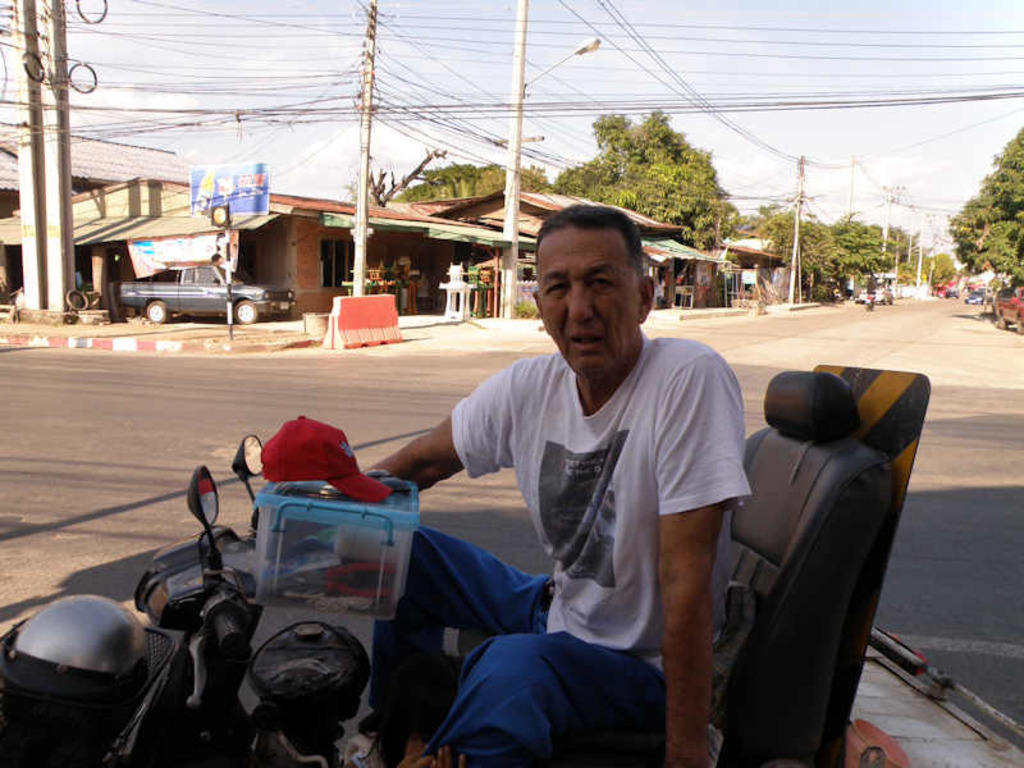Tree: (540, 112, 748, 308), (723, 192, 960, 311), (948, 126, 1022, 307), (380, 165, 555, 209)
